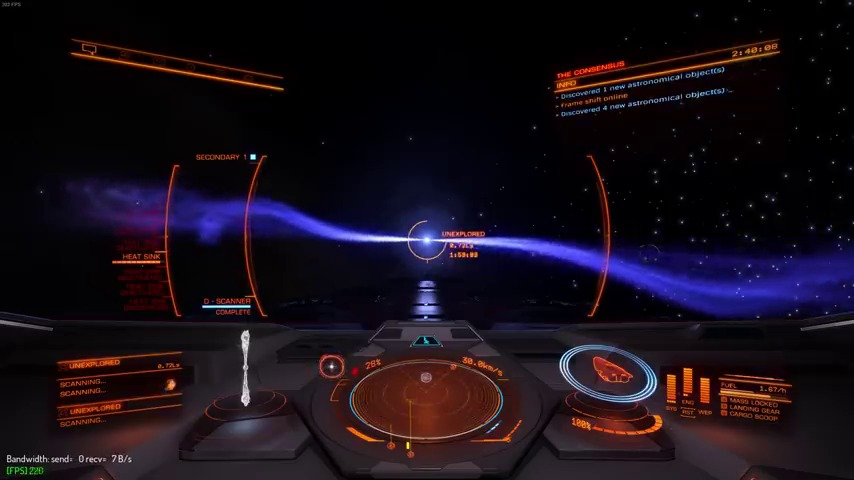jetcone: (453, 225, 850, 327), (456, 227, 850, 324), (110, 187, 399, 258)
